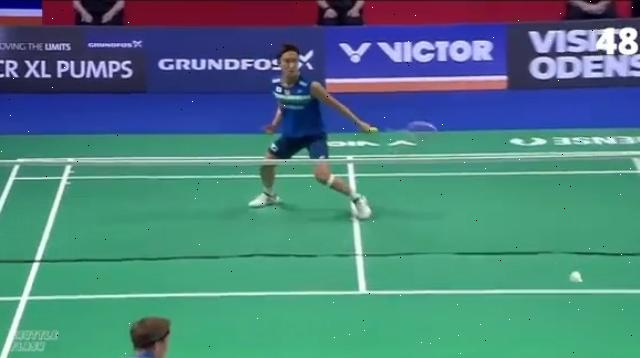Shuttlecock: (565, 268, 587, 288)
